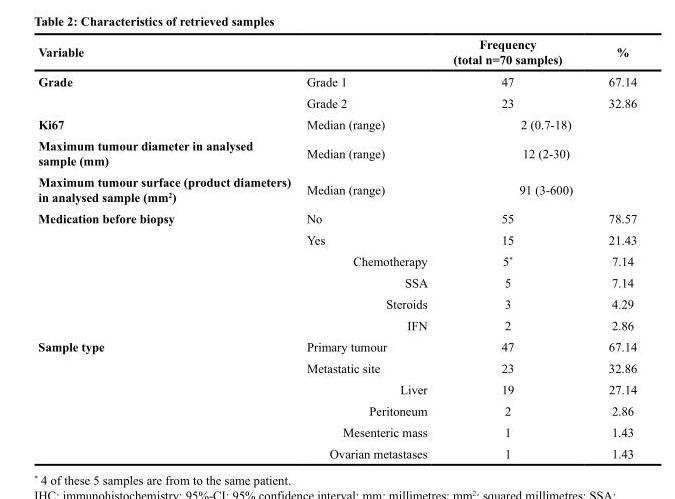table: (37, 36, 636, 460)
table column: (37, 36, 298, 460), (439, 36, 584, 460), (298, 36, 439, 460), (584, 36, 636, 460)
table column header: (37, 36, 636, 70)
table row: (37, 170, 636, 207), (37, 134, 636, 170), (37, 36, 636, 70), (37, 91, 636, 113), (37, 228, 636, 250), (37, 292, 636, 314), (37, 335, 636, 357), (37, 399, 636, 421), (37, 70, 636, 91), (37, 113, 636, 134), (37, 207, 636, 228), (37, 250, 636, 271), (37, 271, 636, 292), (37, 314, 636, 335), (37, 357, 636, 378), (37, 378, 636, 399), (37, 421, 636, 442), (37, 442, 636, 460)
table spanning cell: (37, 207, 298, 335), (37, 335, 298, 460), (37, 70, 298, 113), (439, 170, 636, 207), (439, 134, 636, 170), (439, 113, 636, 134)
